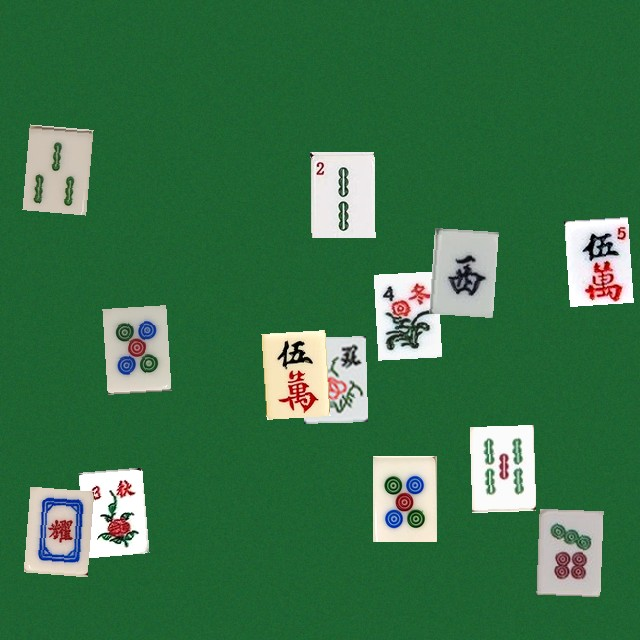tile: (373, 271, 437, 357), (310, 151, 374, 237), (372, 455, 436, 541), (22, 124, 86, 210), (78, 467, 142, 553), (301, 336, 365, 422), (429, 227, 493, 313), (536, 508, 600, 594), (23, 486, 87, 572), (469, 424, 533, 510), (102, 305, 166, 391), (261, 330, 325, 416), (564, 216, 628, 302)
